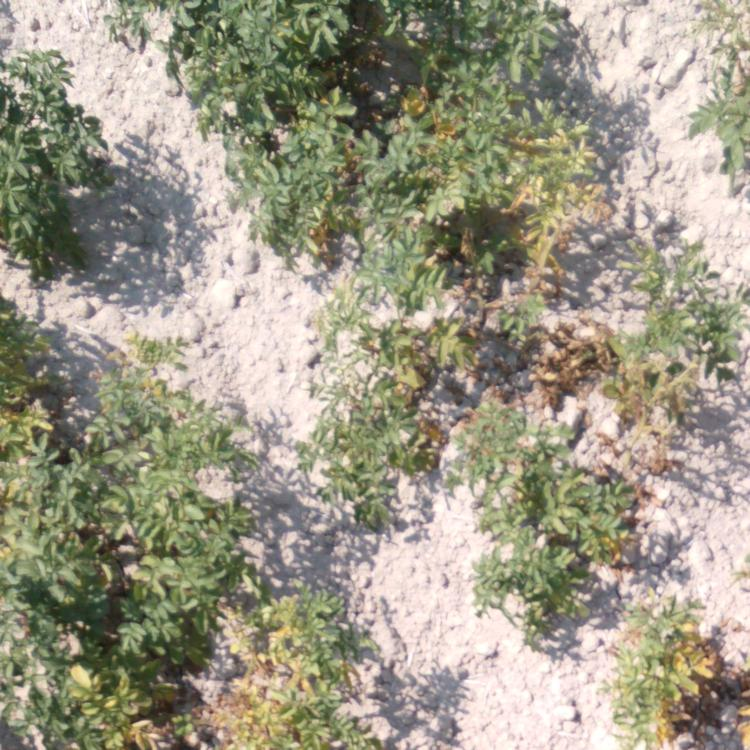healthy: (487, 478, 636, 637), (11, 56, 95, 289), (1, 569, 190, 657), (179, 1, 362, 90), (314, 399, 453, 516), (244, 87, 353, 231), (80, 473, 249, 563), (382, 6, 563, 71), (697, 85, 750, 180)
stressed: (372, 80, 590, 266), (520, 313, 694, 469), (213, 598, 368, 746), (320, 266, 497, 391), (618, 592, 734, 750), (2, 291, 63, 554), (79, 336, 205, 461), (1, 678, 179, 736)
